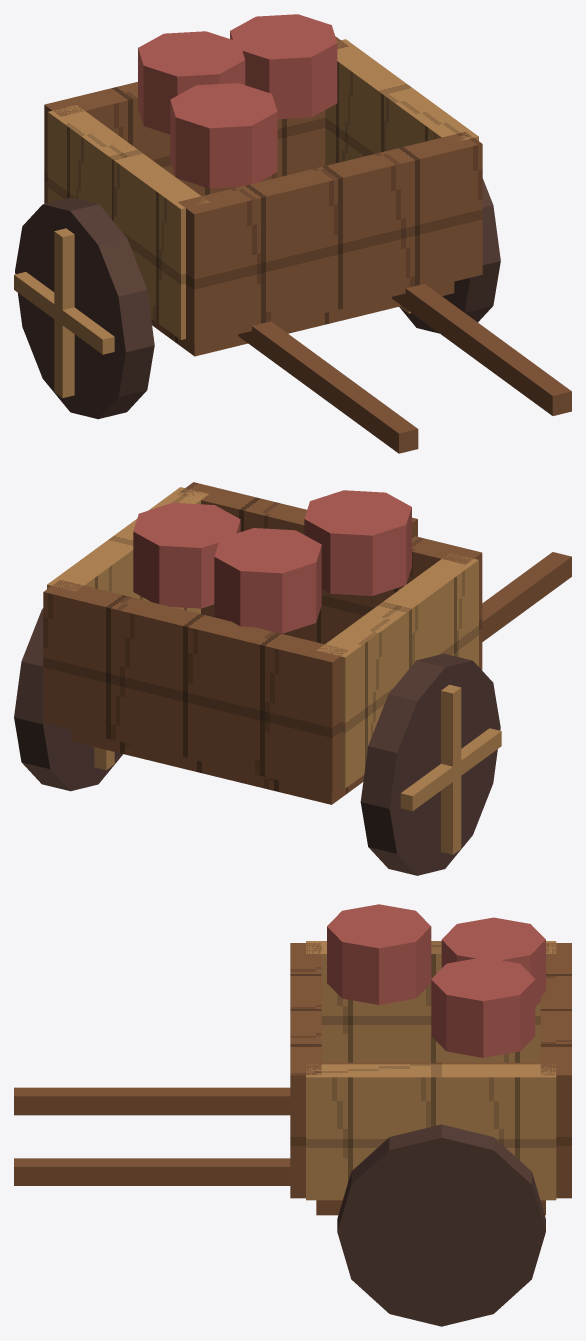
Rendered from cart.glb.
3 renders of one model, top to bottom at view 1: azimuth 30°, elevation 25°; view 2: azimuth 150°, elevation 25°; view 3: azimuth 270°, elevation 25°, orthographic. The views are drawn at different scales.
Parts seen in each view (by area): view 1: village_cart; view 2: village_cart; view 3: village_cart.
Boxes of the visible parts, bbox=[...] form: village_cart: bbox=[14, 14, 571, 453]; village_cart: bbox=[14, 482, 571, 875]; village_cart: bbox=[14, 904, 571, 1326].
Bounding box in the file's own units: 40.25 × 30 × 53.5.
Materials: 6 (2 with a texture image).
